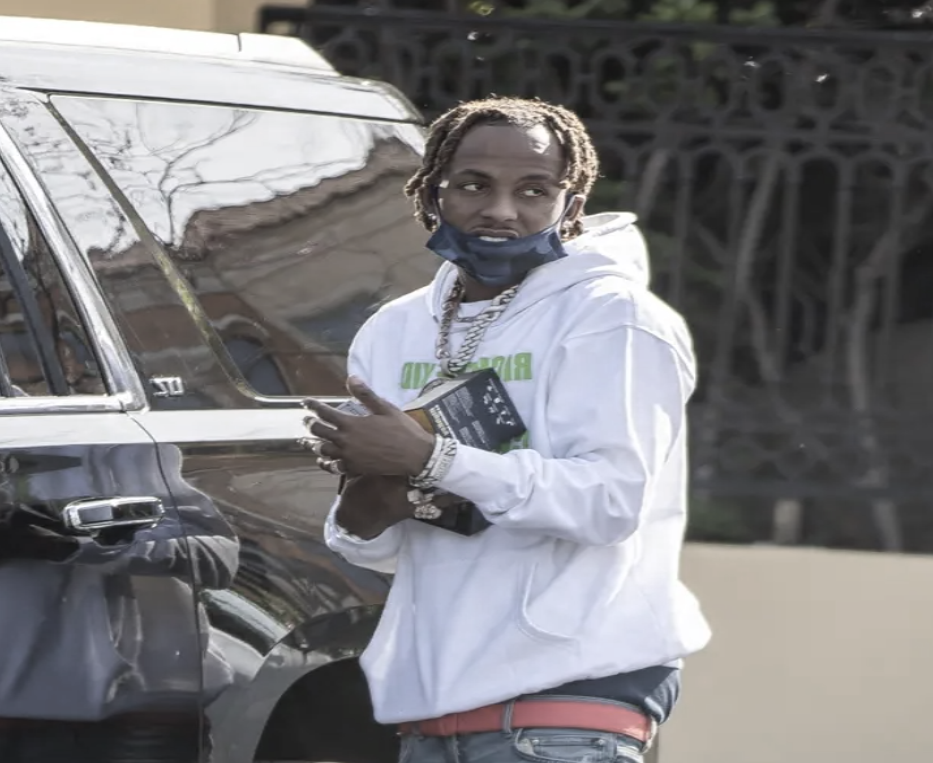mask_weared_incorrect: (407, 97, 597, 288)
